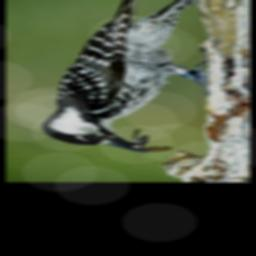Woodpecker: (41, 0, 199, 153)
